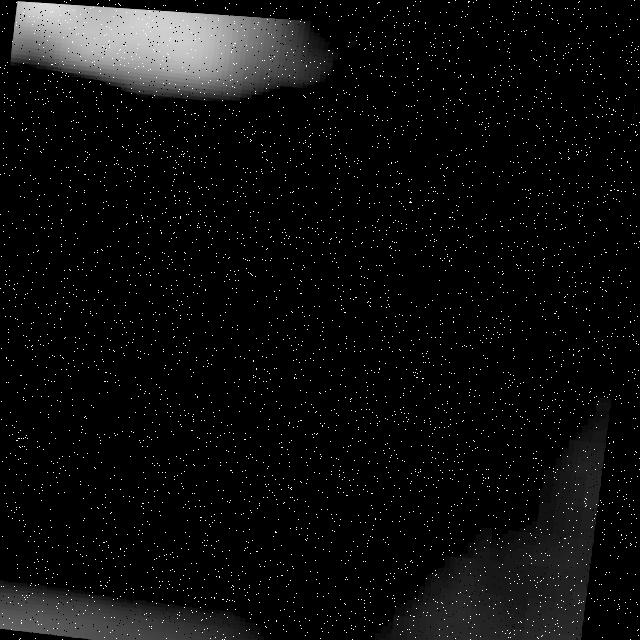person: (5, 2, 364, 135)
